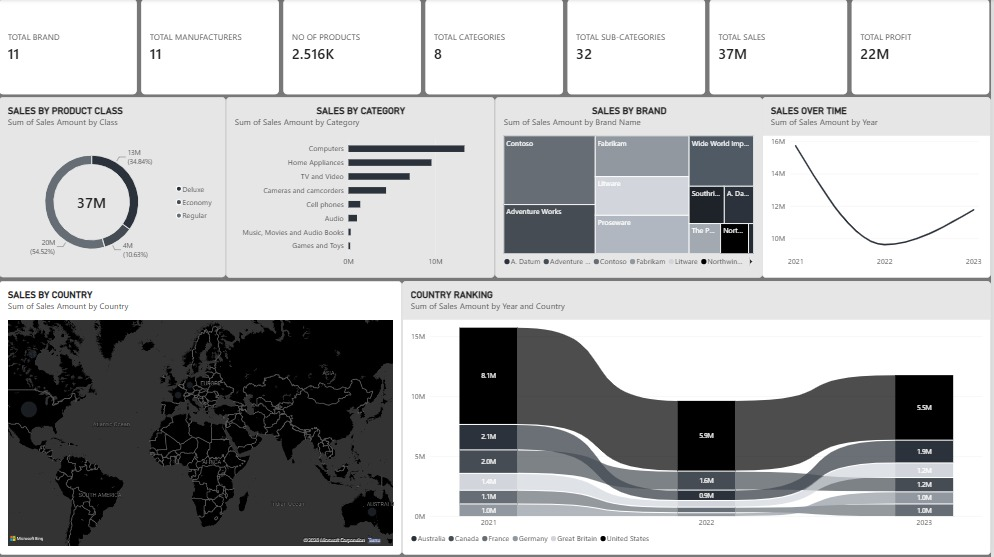

What the dashboard file says about the page in this screenshot:
{"tool":"powerbi","page":{"name":"Page 1","canvas":[1920,1080],"ordinal":0},"visuals":[{"type":"cardVisual","fields":{"Data":["Count(Company.Brand Name)","Count(Company.Manufacturer)","Count(Product.ProdID)","Count(Product.Category)","Count(Product.Sub Category)","Sum(Sales.Sales Amount)","Sum(Sales.Profit)"]},"box":[0,0,1920,185],"z":0},{"type":"lineChart","title":"SALES OVER TIME","fields":{"Category":["Sales.Date.Variation.Date Hierarchy.Year","Sales.Date.Variation.Date Hierarchy.Quarter","Sales.Date.Variation.Date Hierarchy.Month","Sales.Date.Variation.Date Hierarchy.Day"],"Y":["Sum(Sales.Sales Amount)"]},"box":[1477.5,190,442.5,350],"z":1000},{"type":"ribbonChart","title":"COUNTRY RANKING","fields":{"Category":["Sales.Date.Variation.Date Hierarchy.Year","Sales.Date.Variation.Date Hierarchy.Quarter","Sales.Date.Variation.Date Hierarchy.Month","Sales.Date.Variation.Date Hierarchy.Day"],"Y":["Sum(Sales.Sales Amount)"],"Series":["Sales.Country"]},"box":[780,545,1140,530],"z":2000},{"type":"donutChart","title":"SALES BY PRODUCT CLASS","fields":{"Y":["Sum(Sales.Sales Amount)"],"Series":["Sales.Class"]},"box":[0,190.5,438.8,348.9],"z":3000},{"type":"treemap","title":"SALES BY BRAND","fields":{"Values":["Sum(Sales.Sales Amount)"],"Details":["Sales.Brand Name"]},"box":[960,190,517.5,350],"z":4000},{"type":"clusteredBarChart","title":"SALES BY CATEGORY","fields":{"Y":["Sum(Sales.Sales Amount)"],"Category":["Product.Category"]},"box":[440,190,520,350],"z":5000},{"type":"map","title":"SALES BY COUNTRY","fields":{"Category":["Sales.Country"],"Size":["Sum(Sales.Sales Amount)"]},"box":[0,545,780,530],"z":6000}]}

Visuals, with their boxes in screenshot pixels (x1, y1, x2, y2), scaled from the page's 1920x1080 canvas onto the 994x557 screenshot:
cardVisual - Count(Company.Brand Name) x Count(Company.Manufacturer): Rect(0, 0, 993, 95)
"SALES OVER TIME" lineChart: Rect(765, 98, 993, 278)
"COUNTRY RANKING" ribbonChart: Rect(404, 281, 993, 554)
"SALES BY PRODUCT CLASS" donutChart: Rect(0, 98, 227, 278)
"SALES BY BRAND" treemap: Rect(497, 98, 765, 278)
"SALES BY CATEGORY" clusteredBarChart: Rect(228, 98, 497, 278)
"SALES BY COUNTRY" map: Rect(0, 281, 404, 554)
